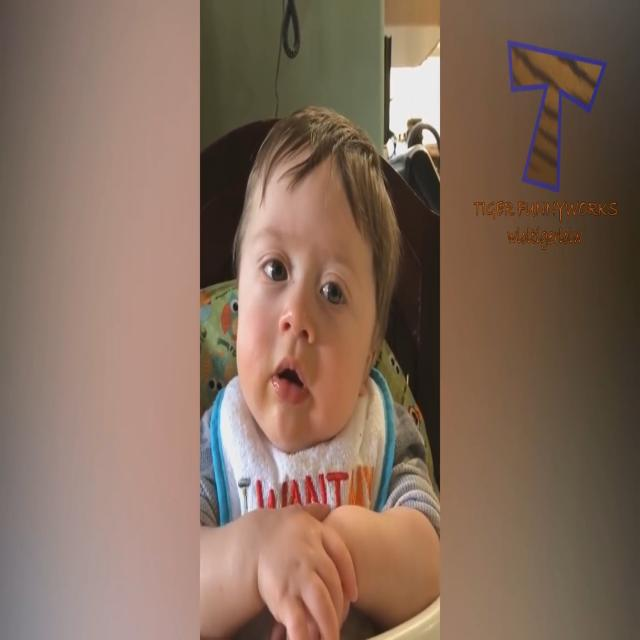safe: (218, 103, 398, 640)
